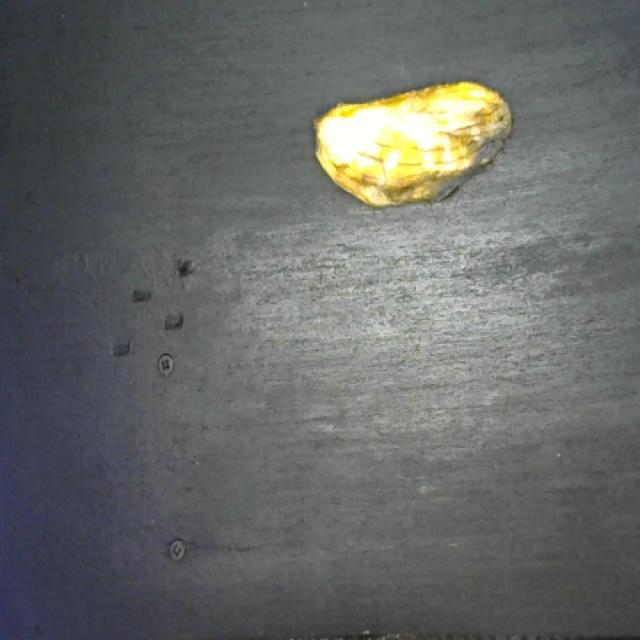biodegradable: (305, 74, 515, 217)
